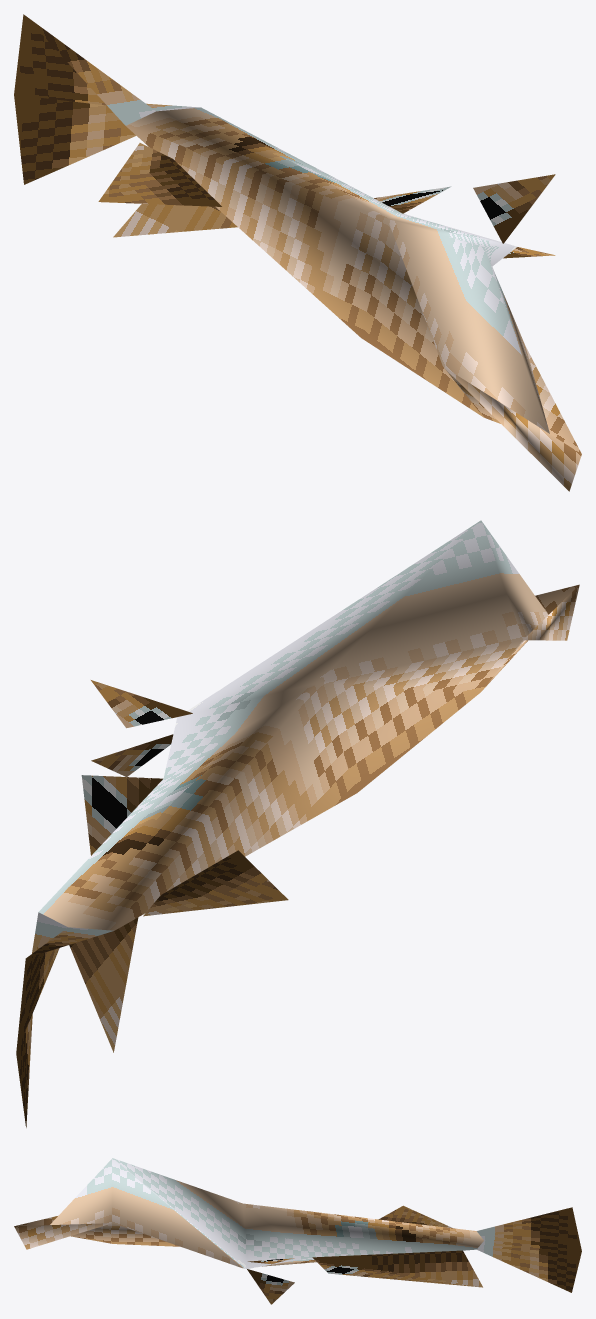
3 renders of one model, top to bottom at view 1: azimuth 30°, elevation 25°; view 2: azimuth 150°, elevation 25°; view 3: azimuth 270°, elevation 25°, orthographic. The views are drawn at different scales.
Parts seen in each view (by area): view 1: 4811fish21; view 2: 4811fish21; view 3: 4811fish21.
Part boxes in pixels (<box>): 4811fish21: <box>14,14,581,491</box>; 4811fish21: <box>16,520,579,1127</box>; 4811fish21: <box>14,1158,581,1304</box>.
Bounding box in the file's own units: 0.3352 × 0.2645 × 0.9997.
Materials: 1 (1 with a texture image).
